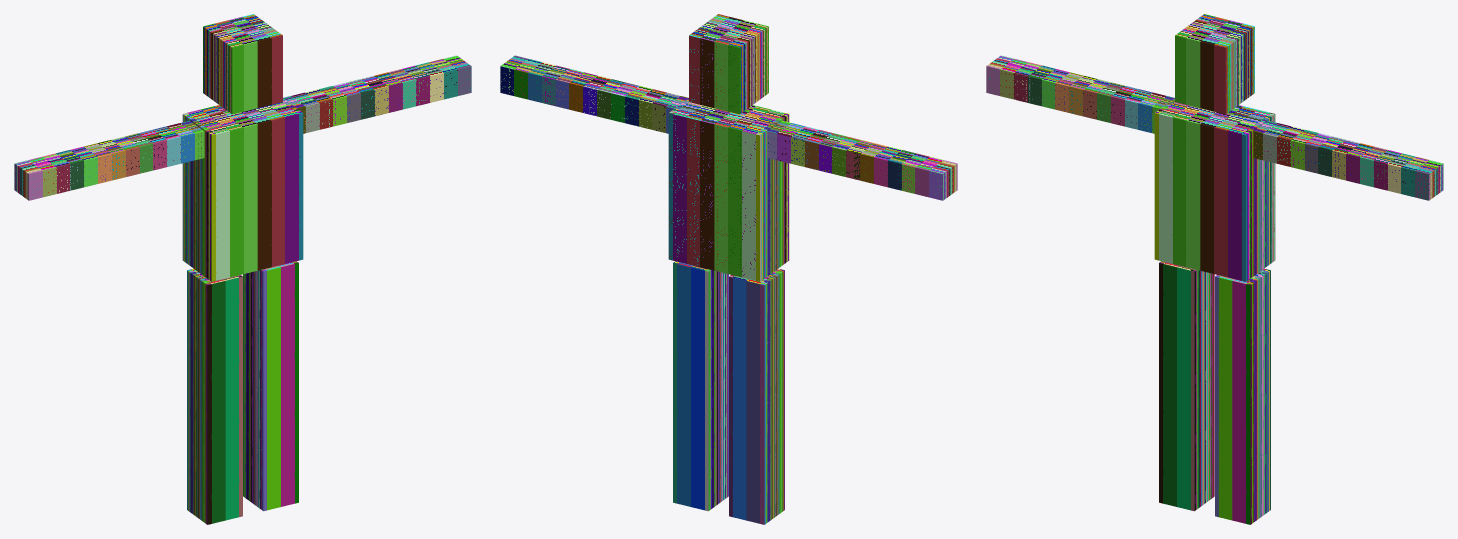
Rendered from humanoid.glb.
3 views of the same model, side by side, from view 1: azimuth 30°, elevation 25°; view 2: azimuth 150°, elevation 25°; view 3: azimuth 330°, elevation 25° (orthographic).
Visible parts, largest first — view 1: mesh_0; view 2: mesh_0; view 3: mesh_0.
Part boxes in pixels (box(x1,y1,x2,y2)): mesh_0: box(14, 14, 471, 524); mesh_0: box(500, 14, 957, 524); mesh_0: box(986, 14, 1443, 524).
Bounding box in the file's own units: 1.74 × 1.78 × 0.2.
1 material, 1 textured.
